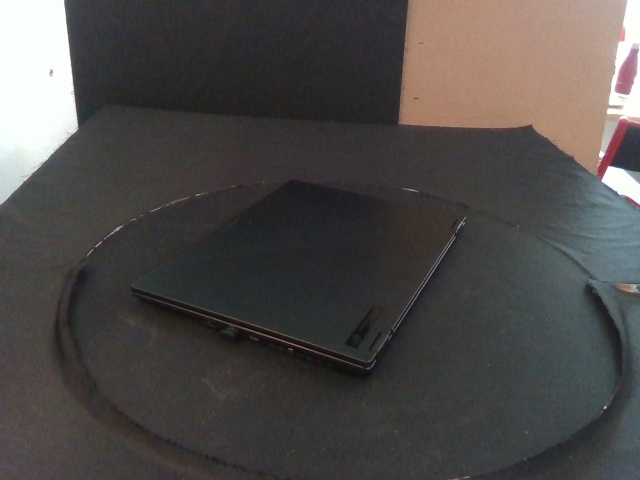laptop: (131, 179, 467, 377)
